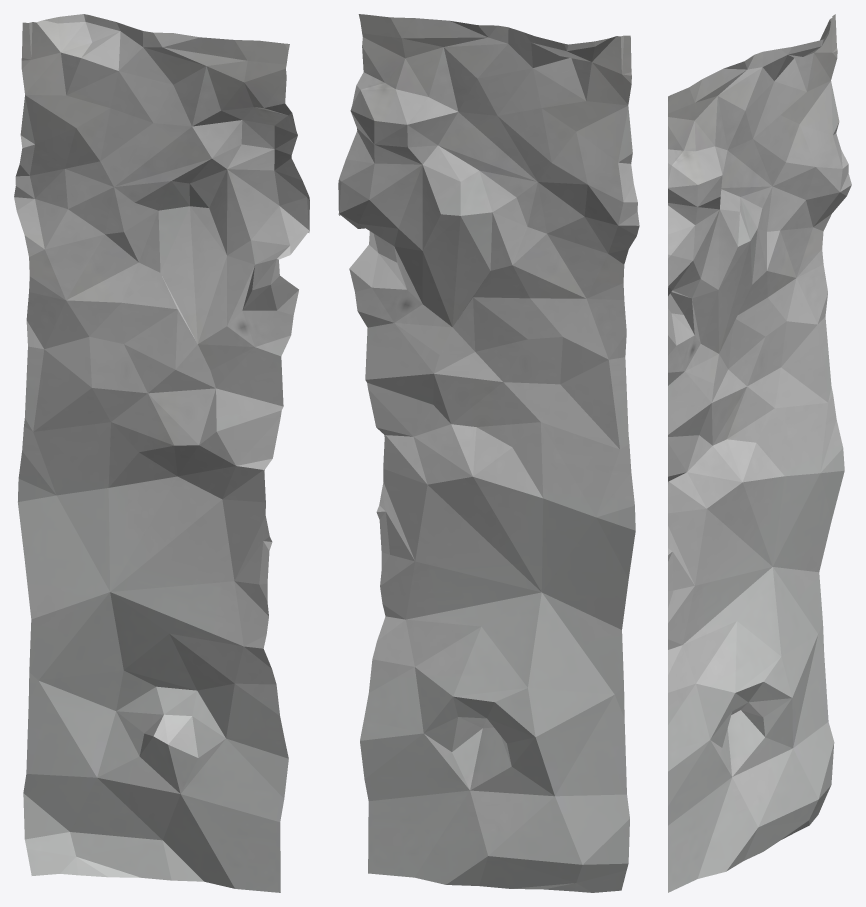
3 views of the same model, side by side, from view 1: azimuth 30°, elevation 25°; view 2: azimuth 210°, elevation 25°; view 3: azimuth 270°, elevation 25° (orthographic). The views are drawn at different scales.
Bounding box in the file's own units: 0.2057 × 0.8374 × 0.1743.
Materials: 1 (1 with a texture image).
